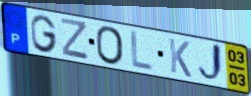G: (29, 14, 59, 54)
J: (197, 41, 226, 85)
K: (167, 36, 193, 79)
L: (129, 29, 154, 73)
O: (94, 25, 126, 67)
Z: (60, 17, 90, 63)
